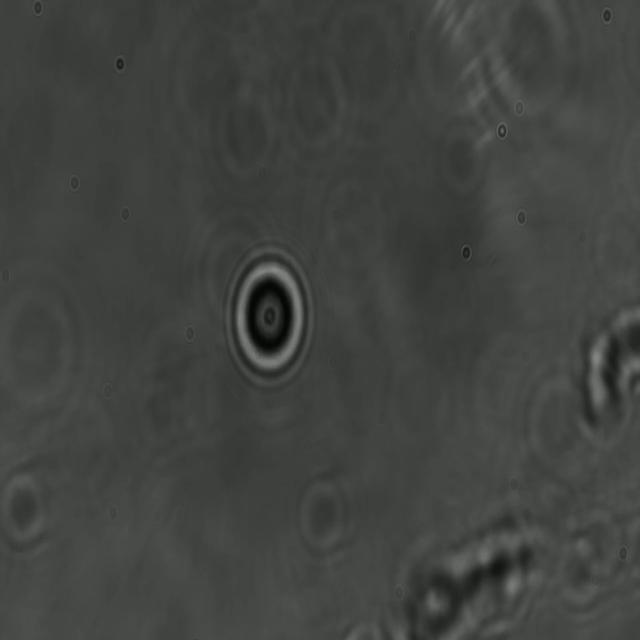LCELL: (220, 239, 318, 396)
